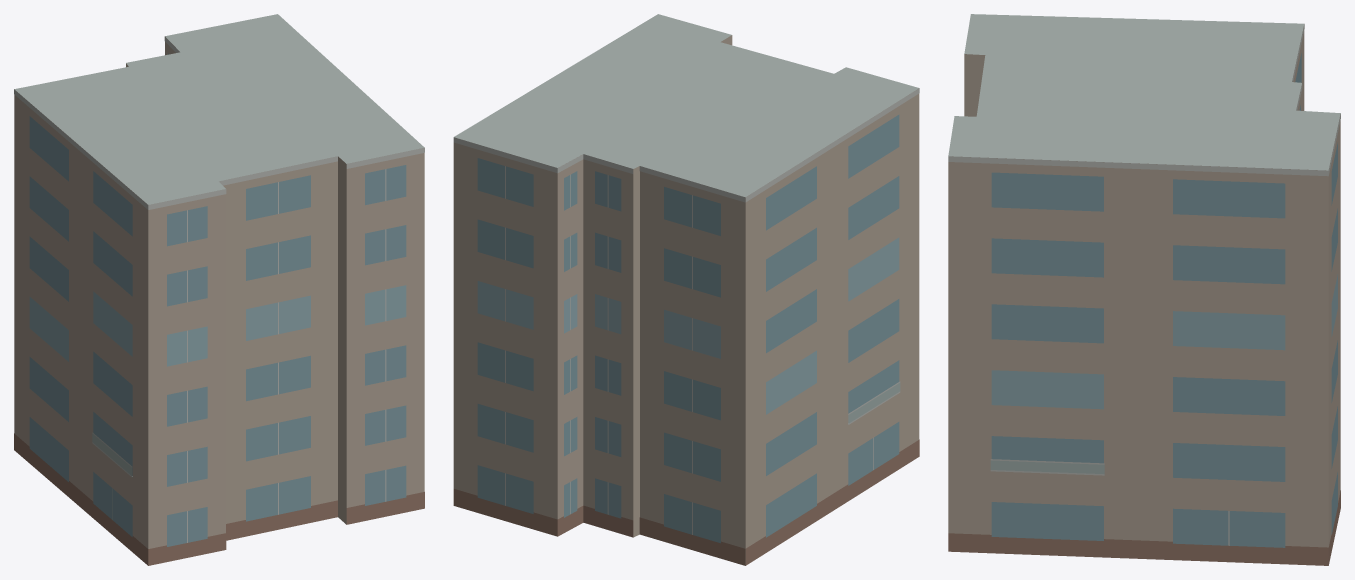
File: survey-upis-32879044.glb
3 views of the same model, side by side, from view 1: azimuth 30°, elevation 25°; view 2: azimuth 150°, elevation 25°; view 3: azimuth 270°, elevation 25° (orthographic). The views are drawn at different scales.
Visible parts, largest first — view 1: survey-upis-32879044.tmp; view 2: survey-upis-32879044.tmp; view 3: survey-upis-32879044.tmp.
Part boxes in pixels (left/top/right/bottom): survey-upis-32879044.tmp: left=14, top=14, right=424, bottom=565; survey-upis-32879044.tmp: left=453, top=14, right=919, bottom=565; survey-upis-32879044.tmp: left=948, top=14, right=1340, bottom=565.
Size of the model in its own units: 14.49 by 17.05 by 15.35.
